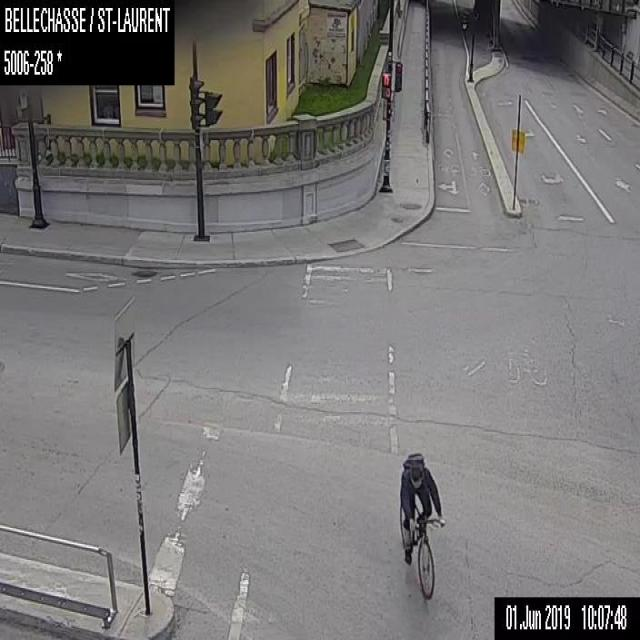cyclist: (398, 452, 446, 598)
